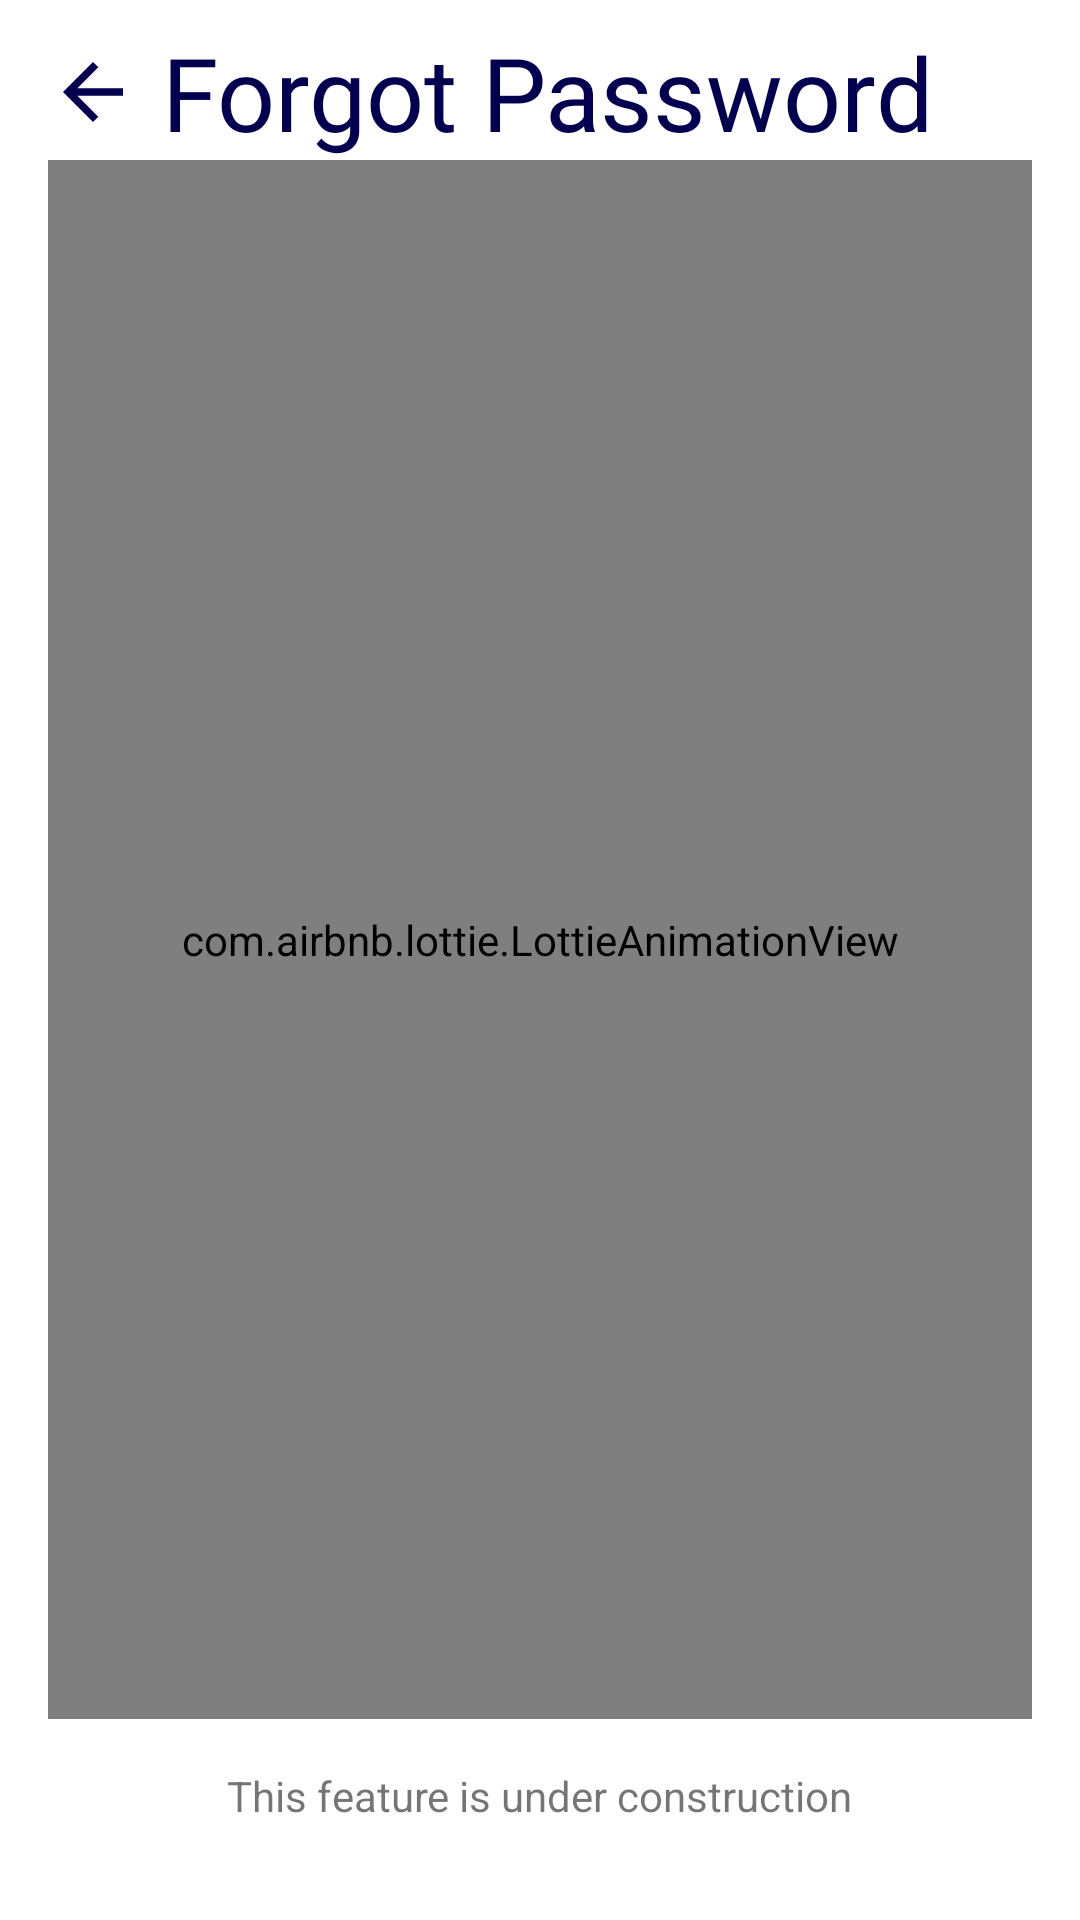

Where icons sit on this 1080*1920 app screen, as [x1=x1, y1=y1, x2=x2, y2=y2]:
back: [x1=63, y1=62, x2=123, y2=122]
